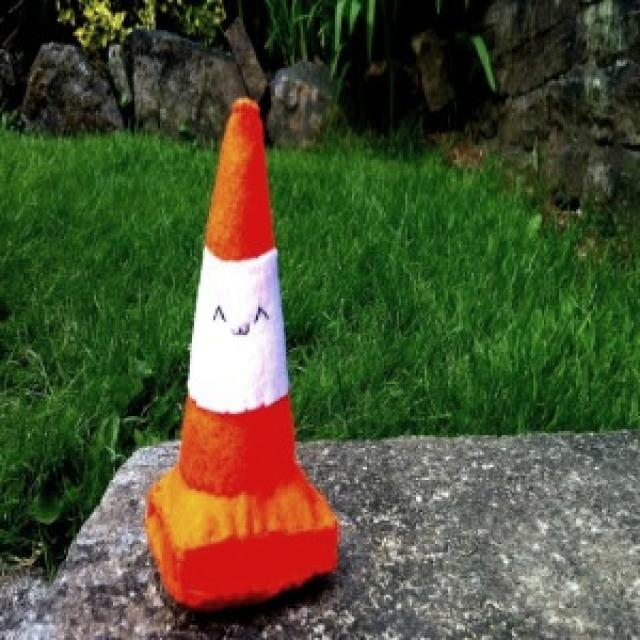cone: (145, 94, 341, 604)
